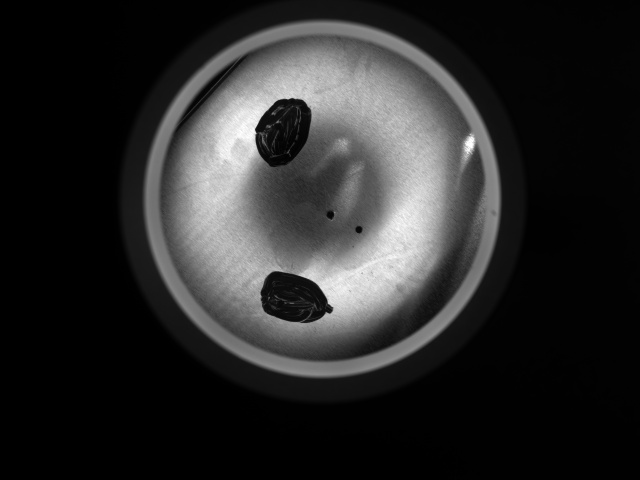zang_wu: (254, 96, 314, 168), (259, 270, 335, 324)
zhen_kong: (350, 223, 365, 237), (326, 208, 337, 220)
